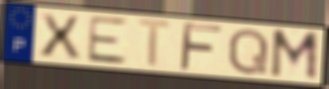E: (84, 14, 130, 66)
F: (177, 20, 225, 73)
M: (268, 28, 321, 84)
Q: (226, 27, 271, 77)
T: (135, 17, 177, 70)
X: (37, 12, 84, 60)
